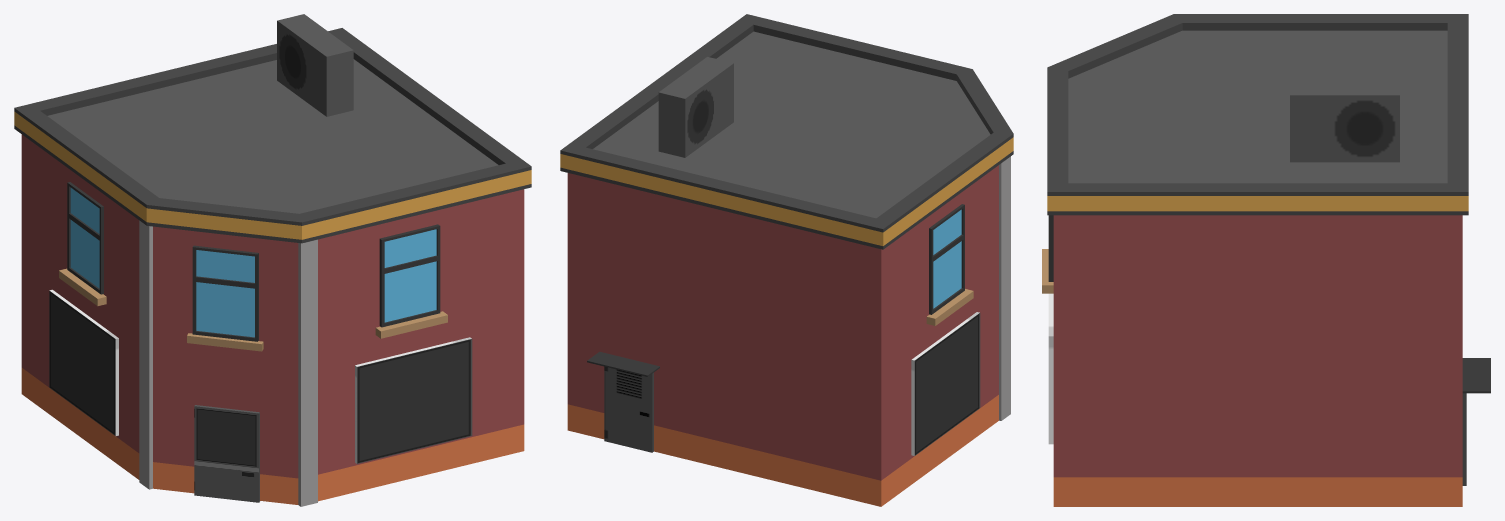
The model's file is shop 7 B.FBX.
3 renders of one model, left to right at view 1: azimuth 30°, elevation 25°; view 2: azimuth 150°, elevation 25°; view 3: azimuth 270°, elevation 25°, orthographic. The views are drawn at different scales.
Visible parts, largest first — view 1: Box287; view 2: Box287; view 3: Box287.
Part boxes in pixels (x1,y1,x2,y2): Box287: (14,14,531,506); Box287: (560,14,1013,506); Box287: (1042,14,1490,506).
Bounding box in the file's own units: 269 × 263 × 283.
Materials: 1 (1 with a texture image).
